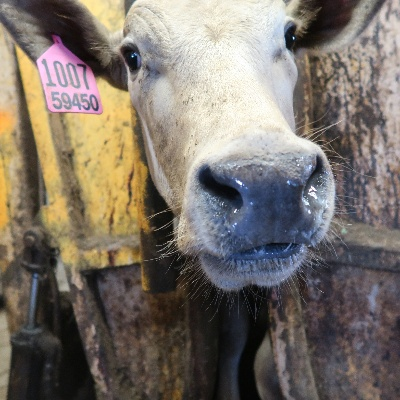fidget_spinner: (181, 151, 332, 251)
